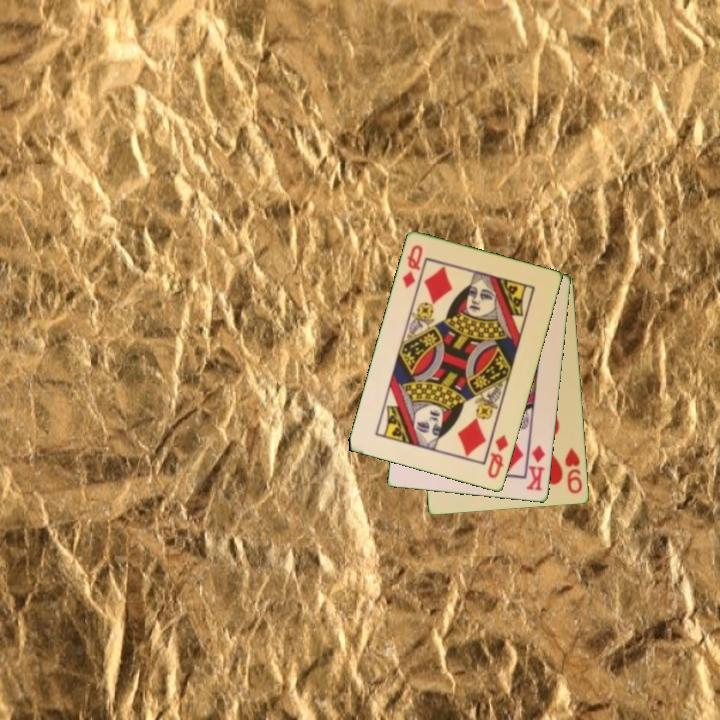9h: (561, 445, 585, 497)
Kd: (523, 442, 548, 494)
Qd: (484, 431, 511, 482), (399, 242, 426, 291)
